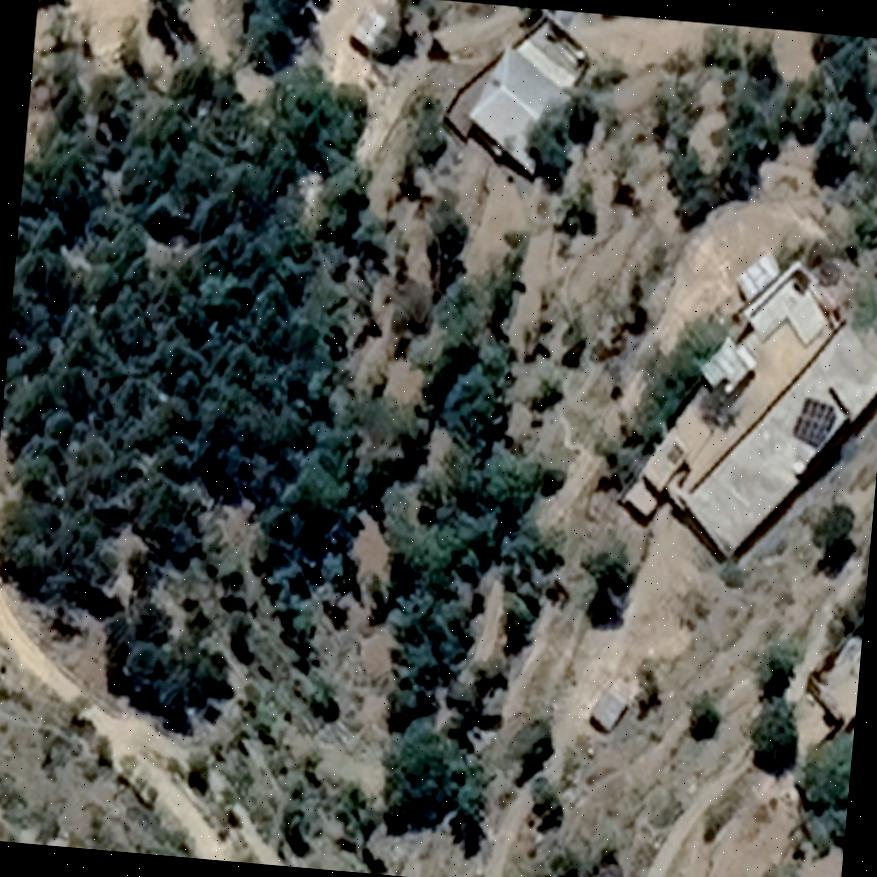Solarpanel: (790, 389, 842, 451)
